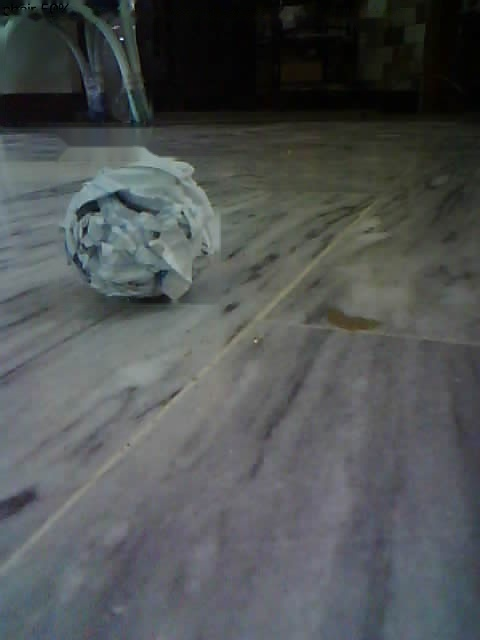paper: (60, 149, 223, 304)
